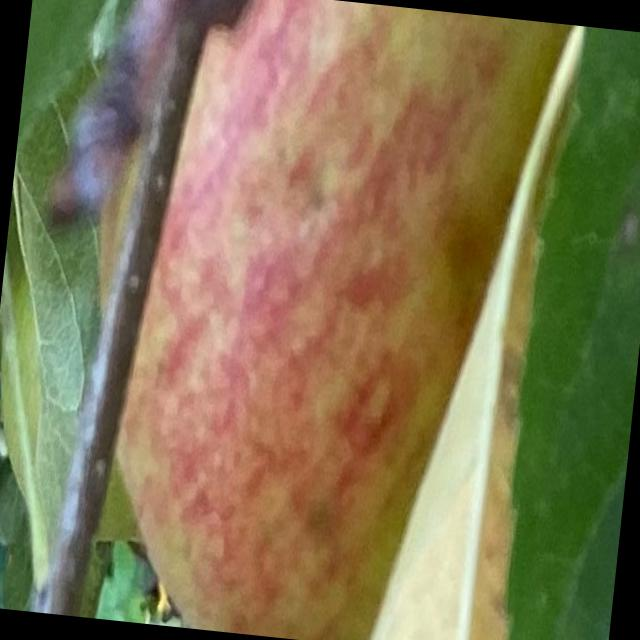Apples: (66, 0, 574, 639)
